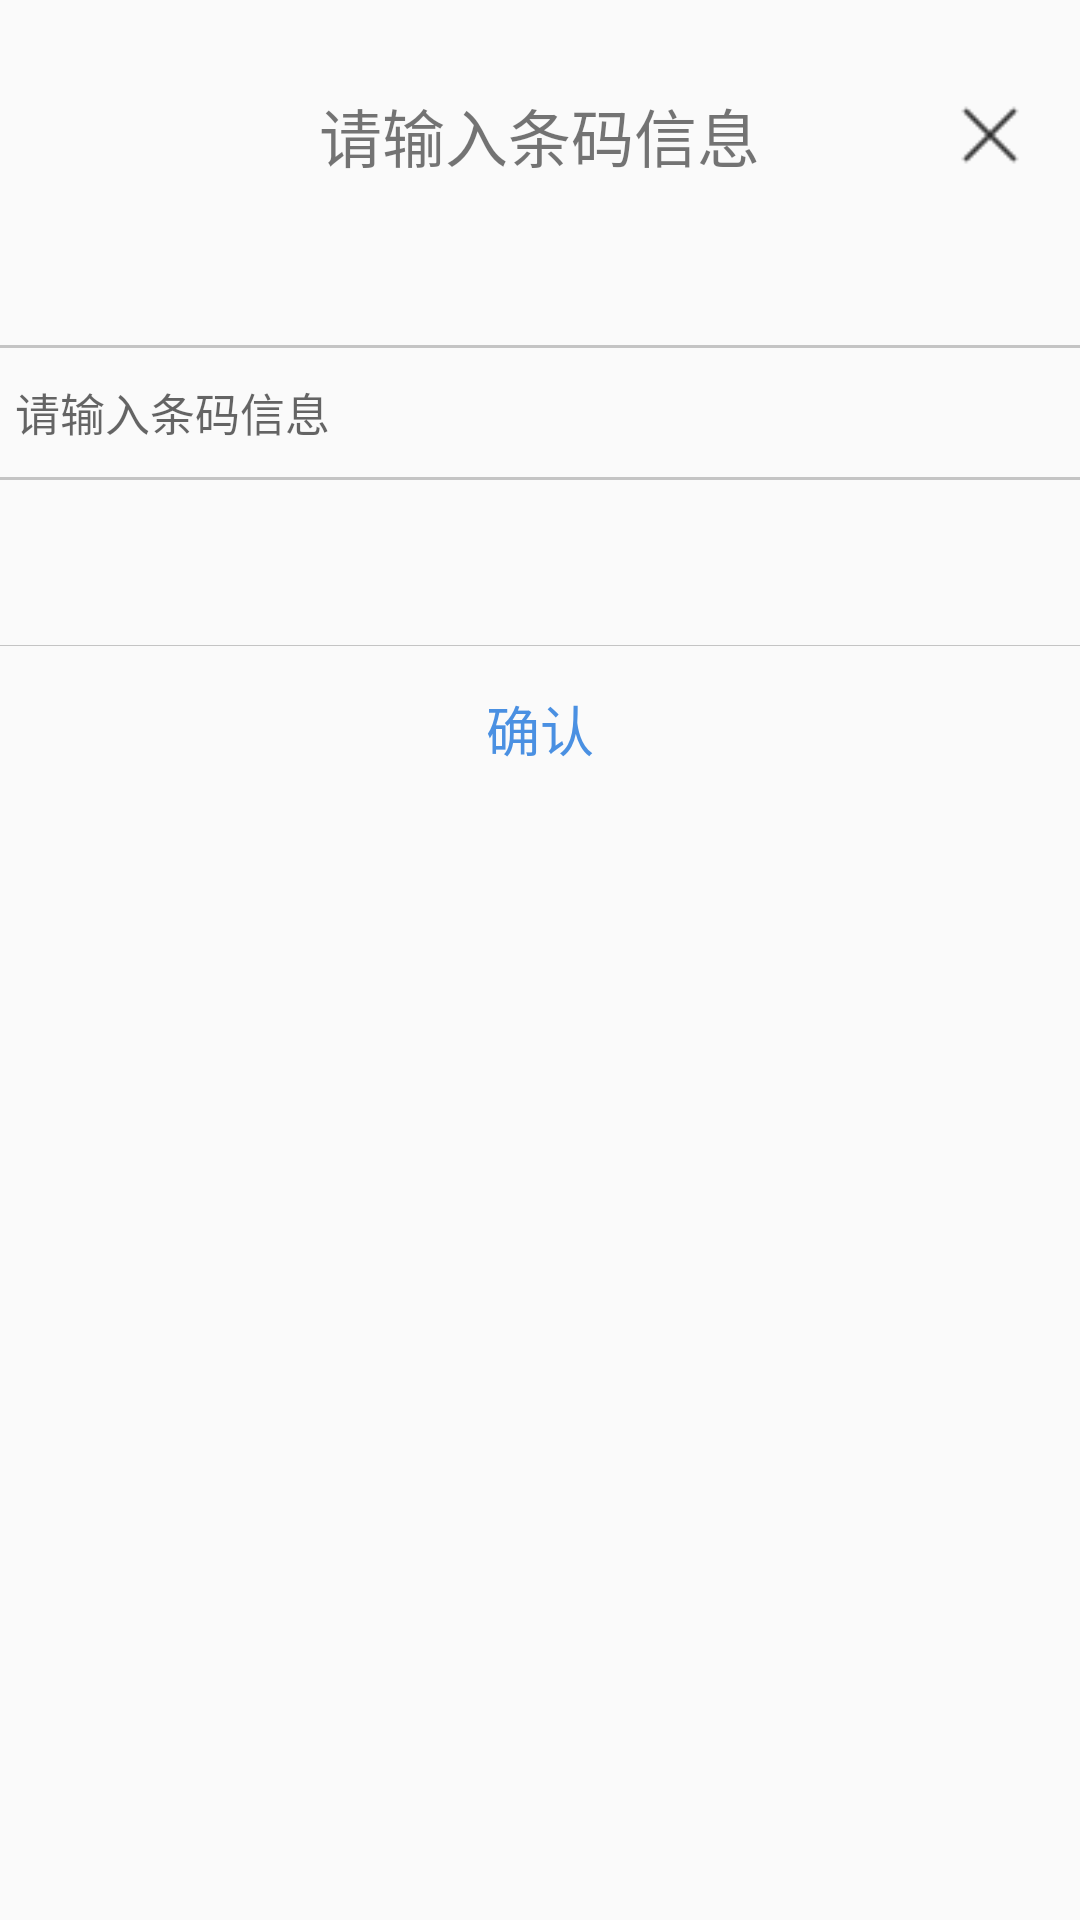

Screen size 1080*1920. Icon name, then its center in pixels as (x,y):
close change: (990,135)
